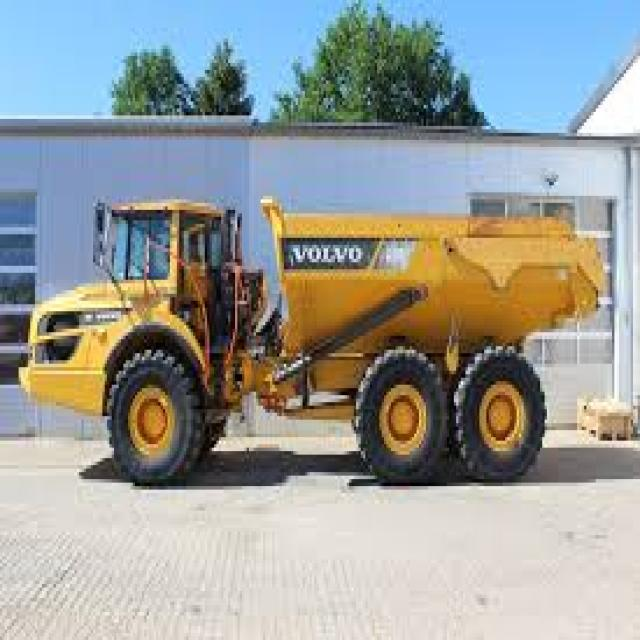dump_truck: (20, 175, 606, 492)
